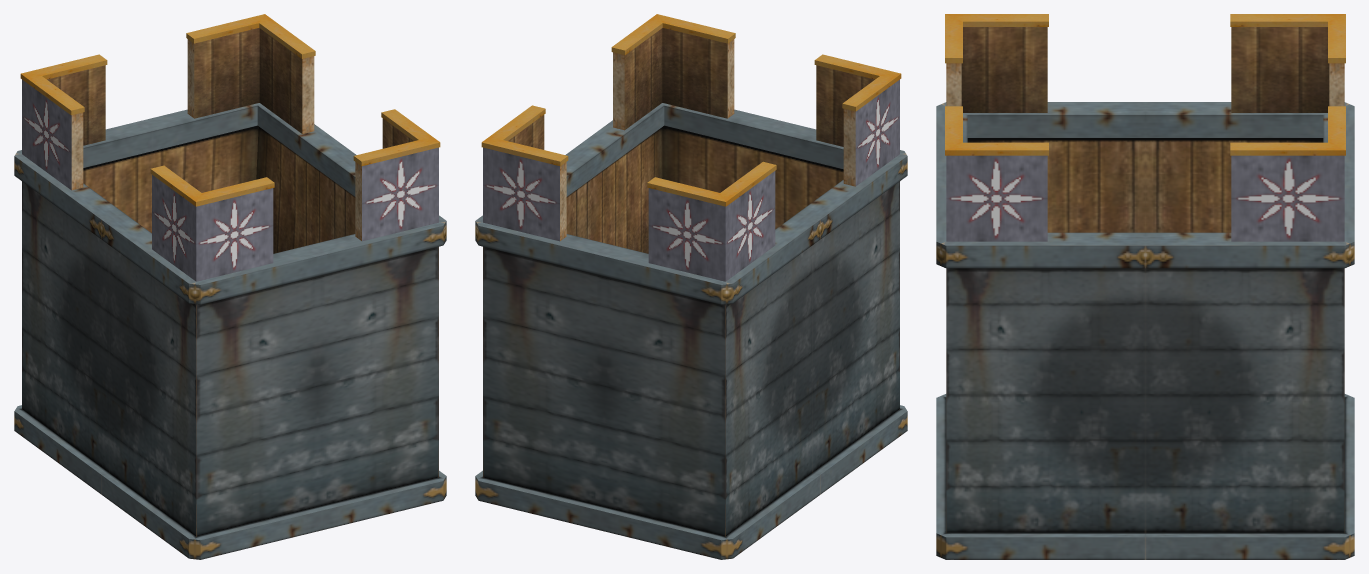
File: howdah_02.dae
3 renders of one model, left to right at view 1: azimuth 30°, elevation 25°; view 2: azimuth 150°, elevation 25°; view 3: azimuth 270°, elevation 25°, orthographic. The views are drawn at different scales.
Visible parts, largest first — view 1: Howdah_Med; view 2: Howdah_Med; view 3: Howdah_Med.
Boxes of the visible parts, bbox=[...] form: Howdah_Med: bbox=[14, 14, 446, 559]; Howdah_Med: bbox=[475, 14, 907, 559]; Howdah_Med: bbox=[936, 14, 1354, 559].
Bounding box in the file's own units: 2.89 × 3.55 × 3.8.
